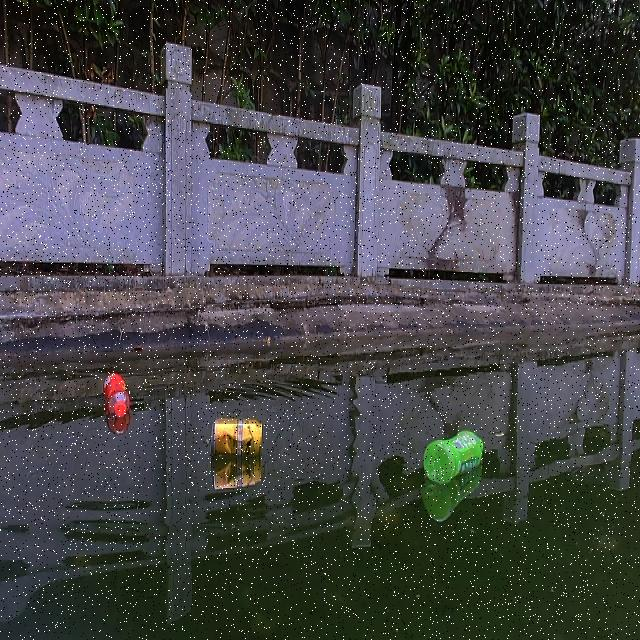bottle: (420, 428, 484, 483), (102, 369, 130, 419)
can: (210, 415, 265, 453)
